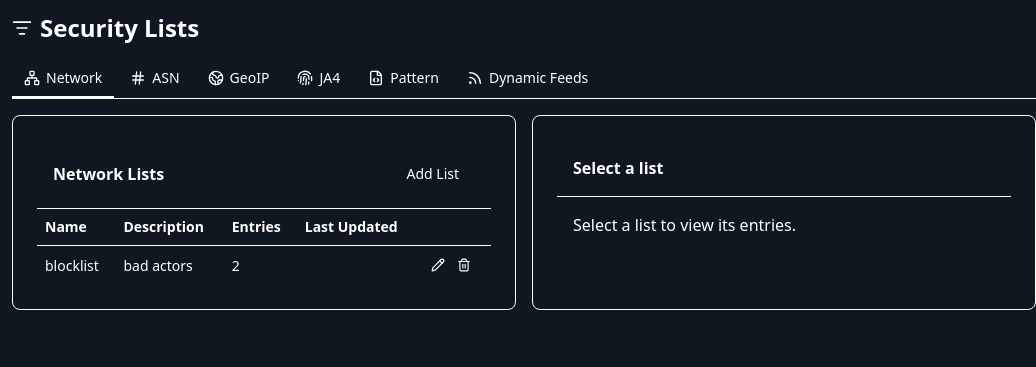
Test: SecurityLists page › selecting a list shows its entries
Click the text "blocklist" at (76, 265), box [37,246,115,285]
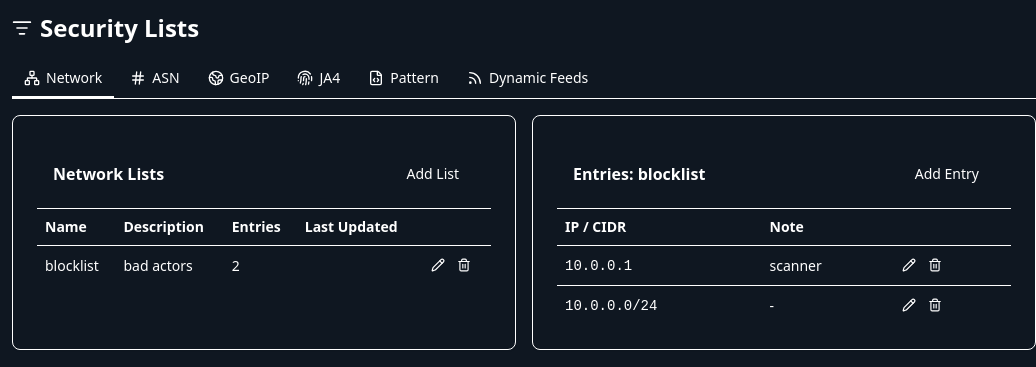
expect the text "10.0.0.1" is shown: met, box [557,246,762,286]
expect the text "10.0.0.0/24" is shown: met, box [557,286,762,325]
expect the text "scanner" is shown: met, box [762,246,890,286]
